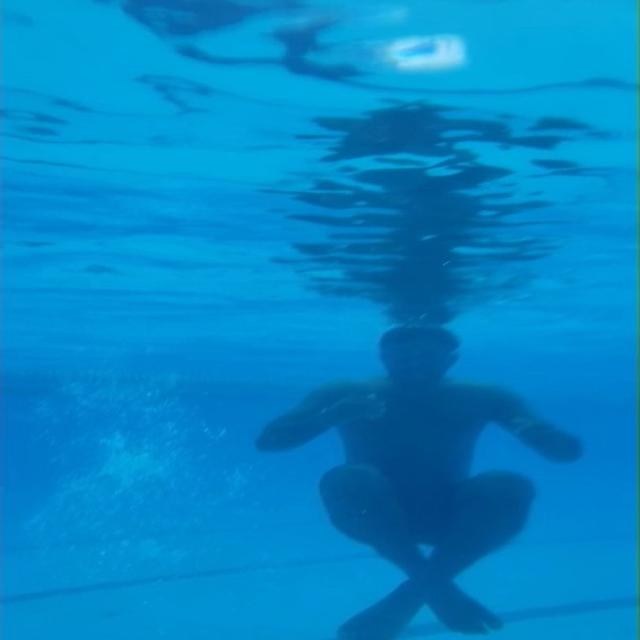Drowning: (257, 328, 586, 640)
